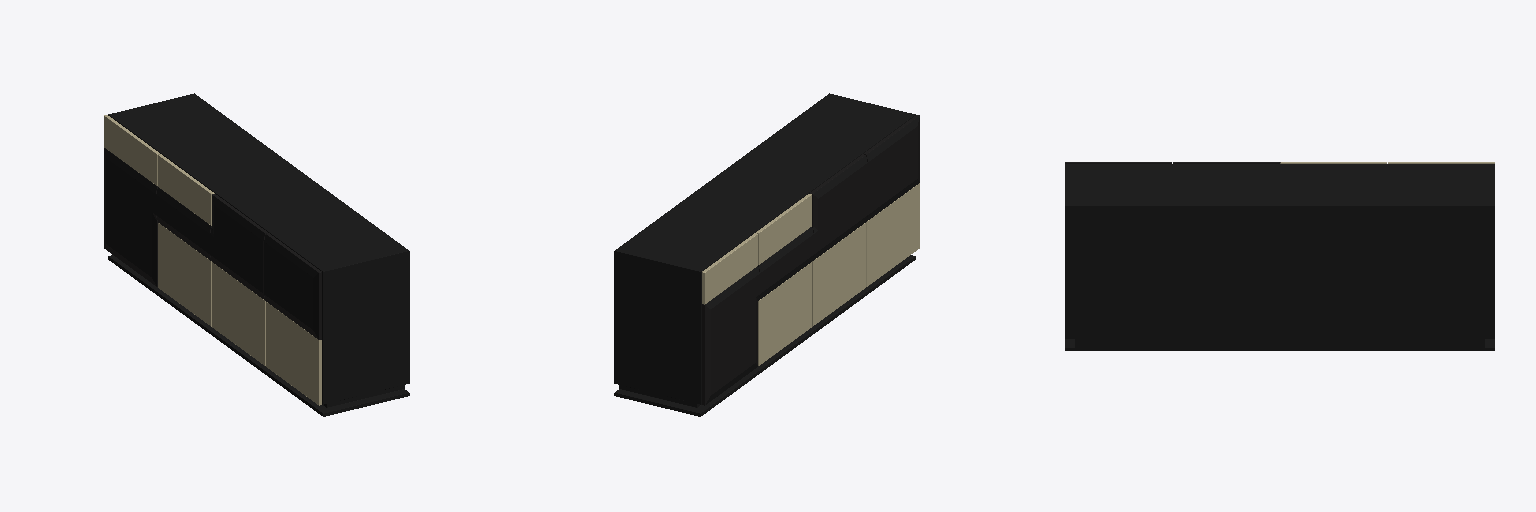
File: shelf.obj
3 renders of one model, left to right at view 1: azimuth 30°, elevation 25°; view 2: azimuth 150°, elevation 25°; view 3: azimuth 270°, elevation 25°, orthographic.
Parts seen in each view (by area): view 1: default_1_4; view 2: default_1_4; view 3: default_1_4.
Part boxes in pixels (x1,y1,x2,y2): default_1_4: (104, 93, 409, 416); default_1_4: (614, 93, 919, 416); default_1_4: (1065, 162, 1494, 350).
Size of the model in its own units: 1.09 by 1.64 by 4.4.